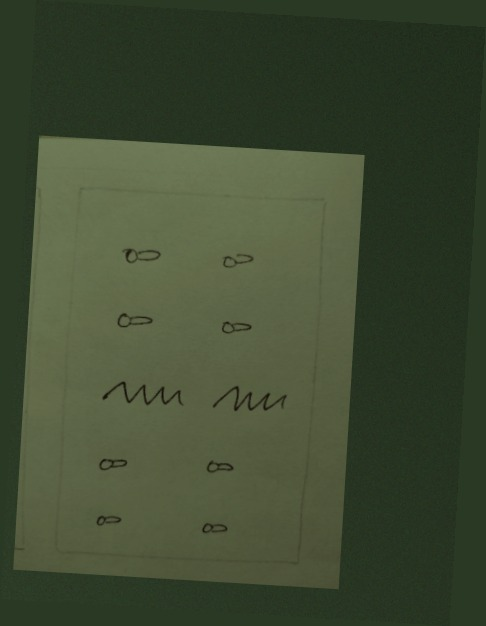switch: (112, 237, 176, 277), (208, 310, 264, 344), (215, 242, 260, 277), (91, 447, 135, 482), (191, 511, 237, 544), (113, 305, 160, 336), (198, 449, 241, 482), (85, 504, 130, 534)
text: (94, 373, 195, 421), (206, 378, 294, 423)
